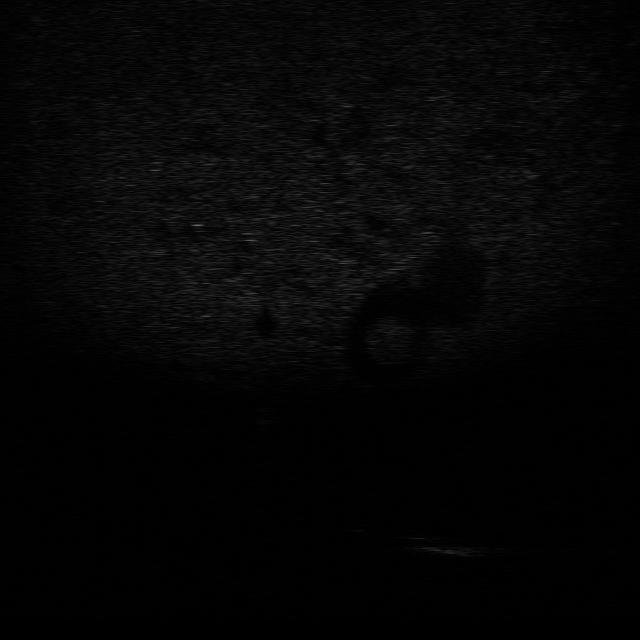ball: (246, 405, 285, 426)
metal bucket: (398, 538, 502, 562)
tyre: (342, 522, 438, 542)
